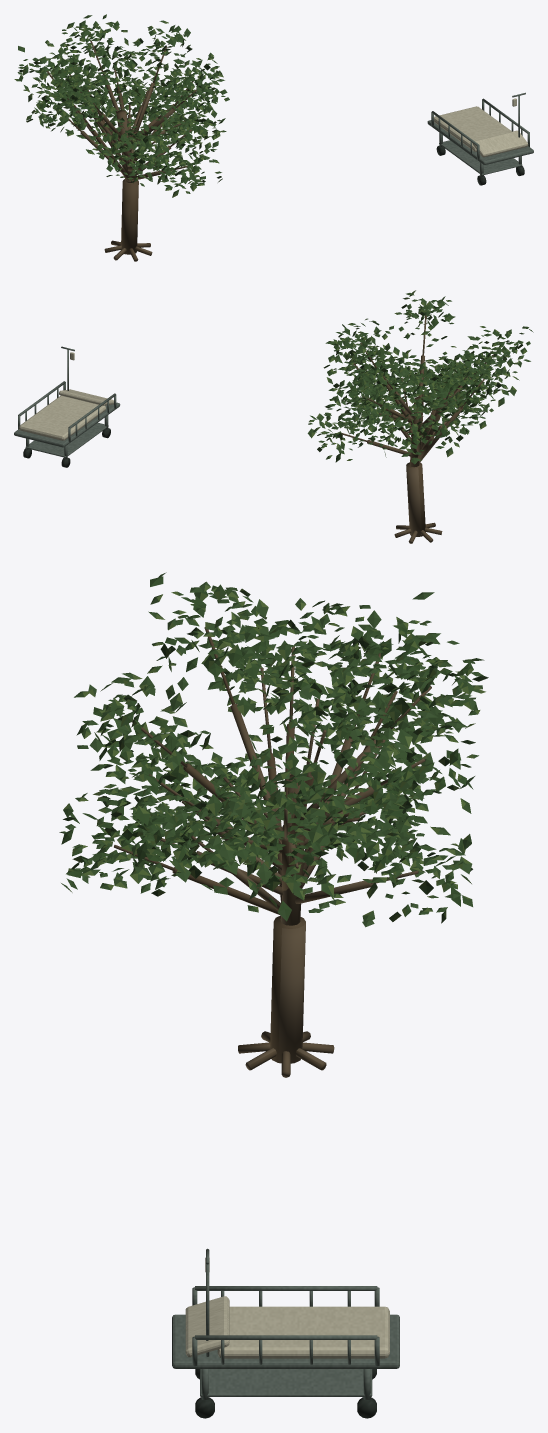
Rendered from ExpansionBatch.fbx.
3 renders of one model, top to bottom at view 1: azimuth 30°, elevation 25°; view 2: azimuth 150°, elevation 25°; view 3: azimuth 270°, elevation 25°, orthographic. The views are drawn at different scales.
Visible parts, largest first — view 1: CourtyardTree_Batch, MedicalGurney_Batch; view 2: CourtyardTree_Batch, MedicalGurney_Batch; view 3: CourtyardTree_Batch, MedicalGurney_Batch.
Part boxes in pixels (x1,y1,x2,y2): CourtyardTree_Batch: [14, 14, 229, 261]; MedicalGurney_Batch: [427, 92, 533, 185]; CourtyardTree_Batch: [307, 290, 533, 543]; MedicalGurney_Batch: [14, 346, 120, 467]; CourtyardTree_Batch: [59, 572, 488, 1077]; MedicalGurney_Batch: [172, 1248, 399, 1418].
Size of the model in its own units: 1184 by 500 by 476.
Materials: 1 (1 with a texture image).
